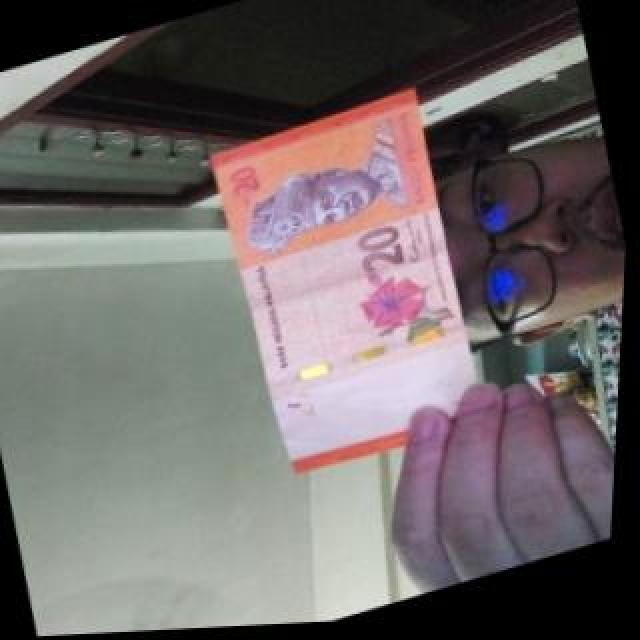20 Ringgit: (180, 76, 521, 501)
